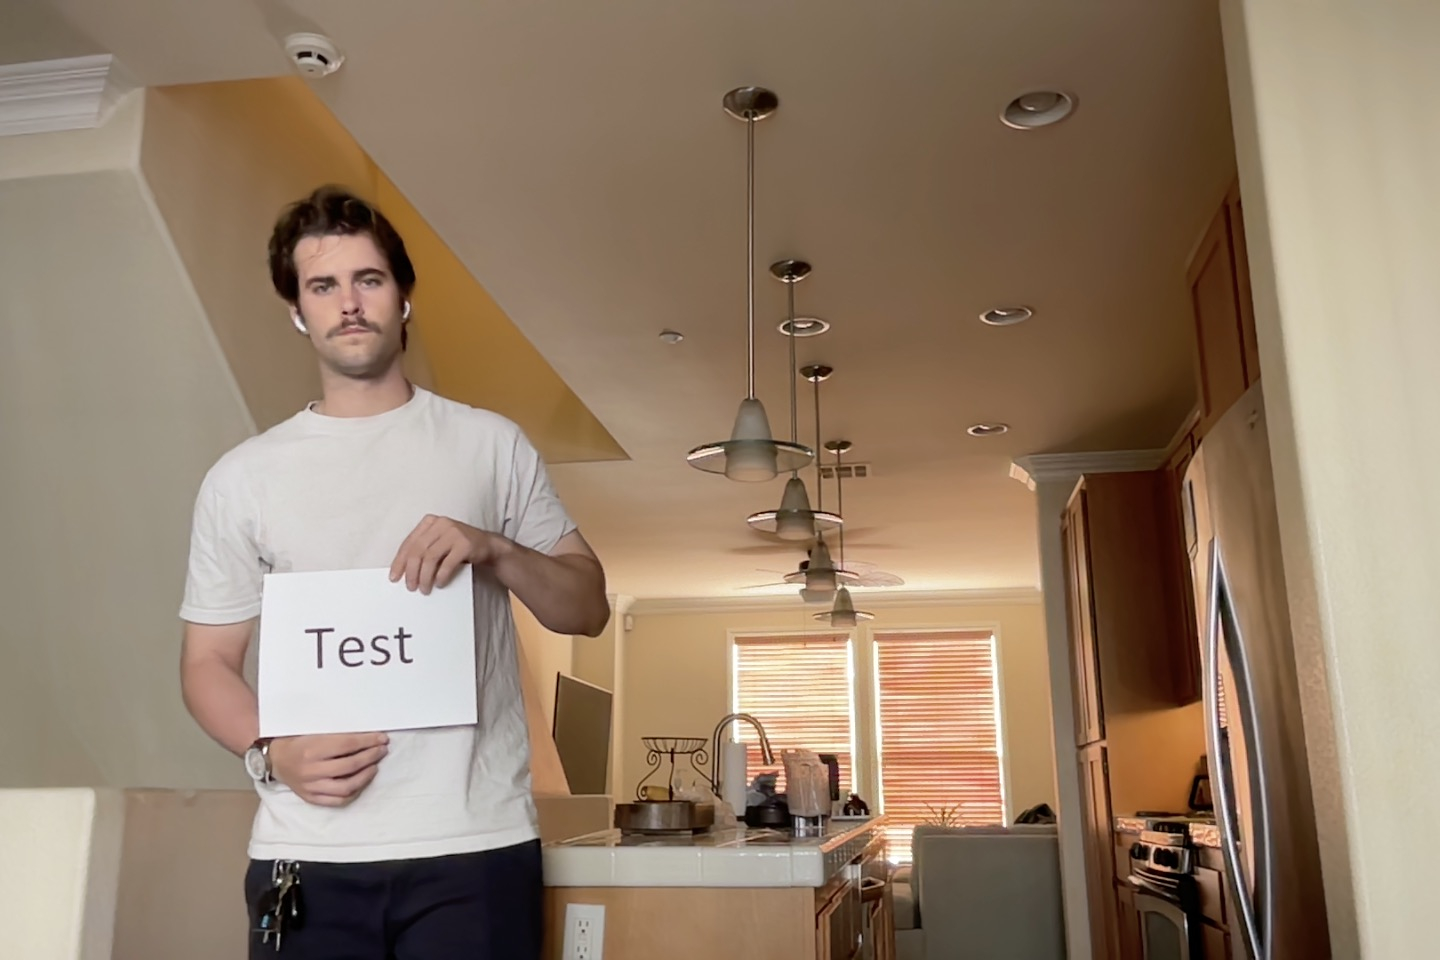word: (300, 622, 422, 673)
